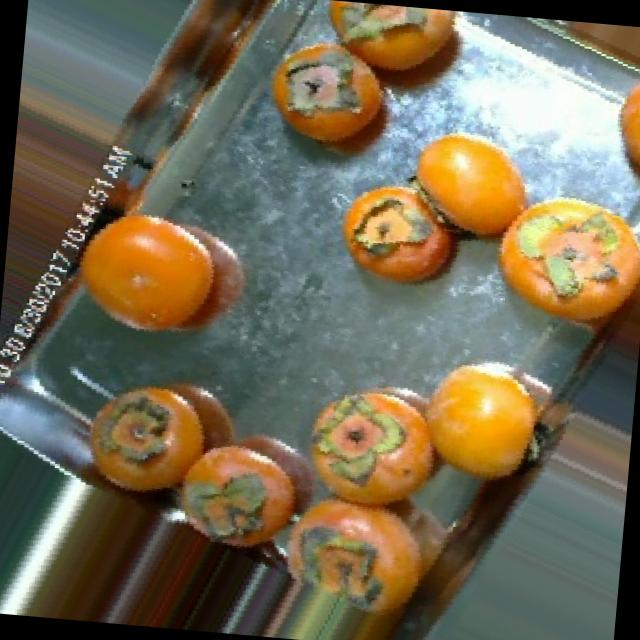Fruit: (54, 182, 276, 367), (52, 350, 276, 526), (389, 110, 556, 262), (249, 40, 413, 176), (319, 170, 482, 303), (523, 17, 640, 89), (589, 53, 640, 206)
